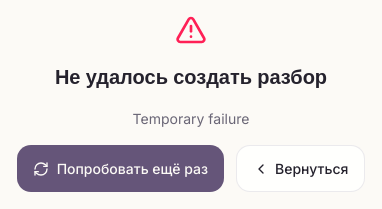
Test: NatalReportPage — retry and demo isolation › retry button handles FAILED_PERMANENT from backend
Check: the heading "Не удалось создать разбор" is shown, box top-left (55, 62), bottom-right (327, 92)
// Click retry
What coordinates should you click on to do the following:
click the button "Попробовать ещё раз"
I would click on:
 (120, 169)
Its box is top-left (17, 145), bottom-right (224, 192).
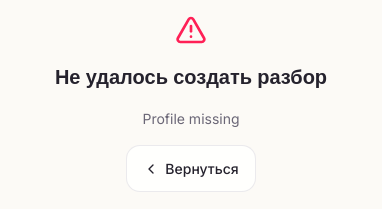
Check: the button "Попробовать ещё раз" is gone
Check: the text "Profile missing" is shown, box top-left (142, 108), bottom-right (240, 129)
